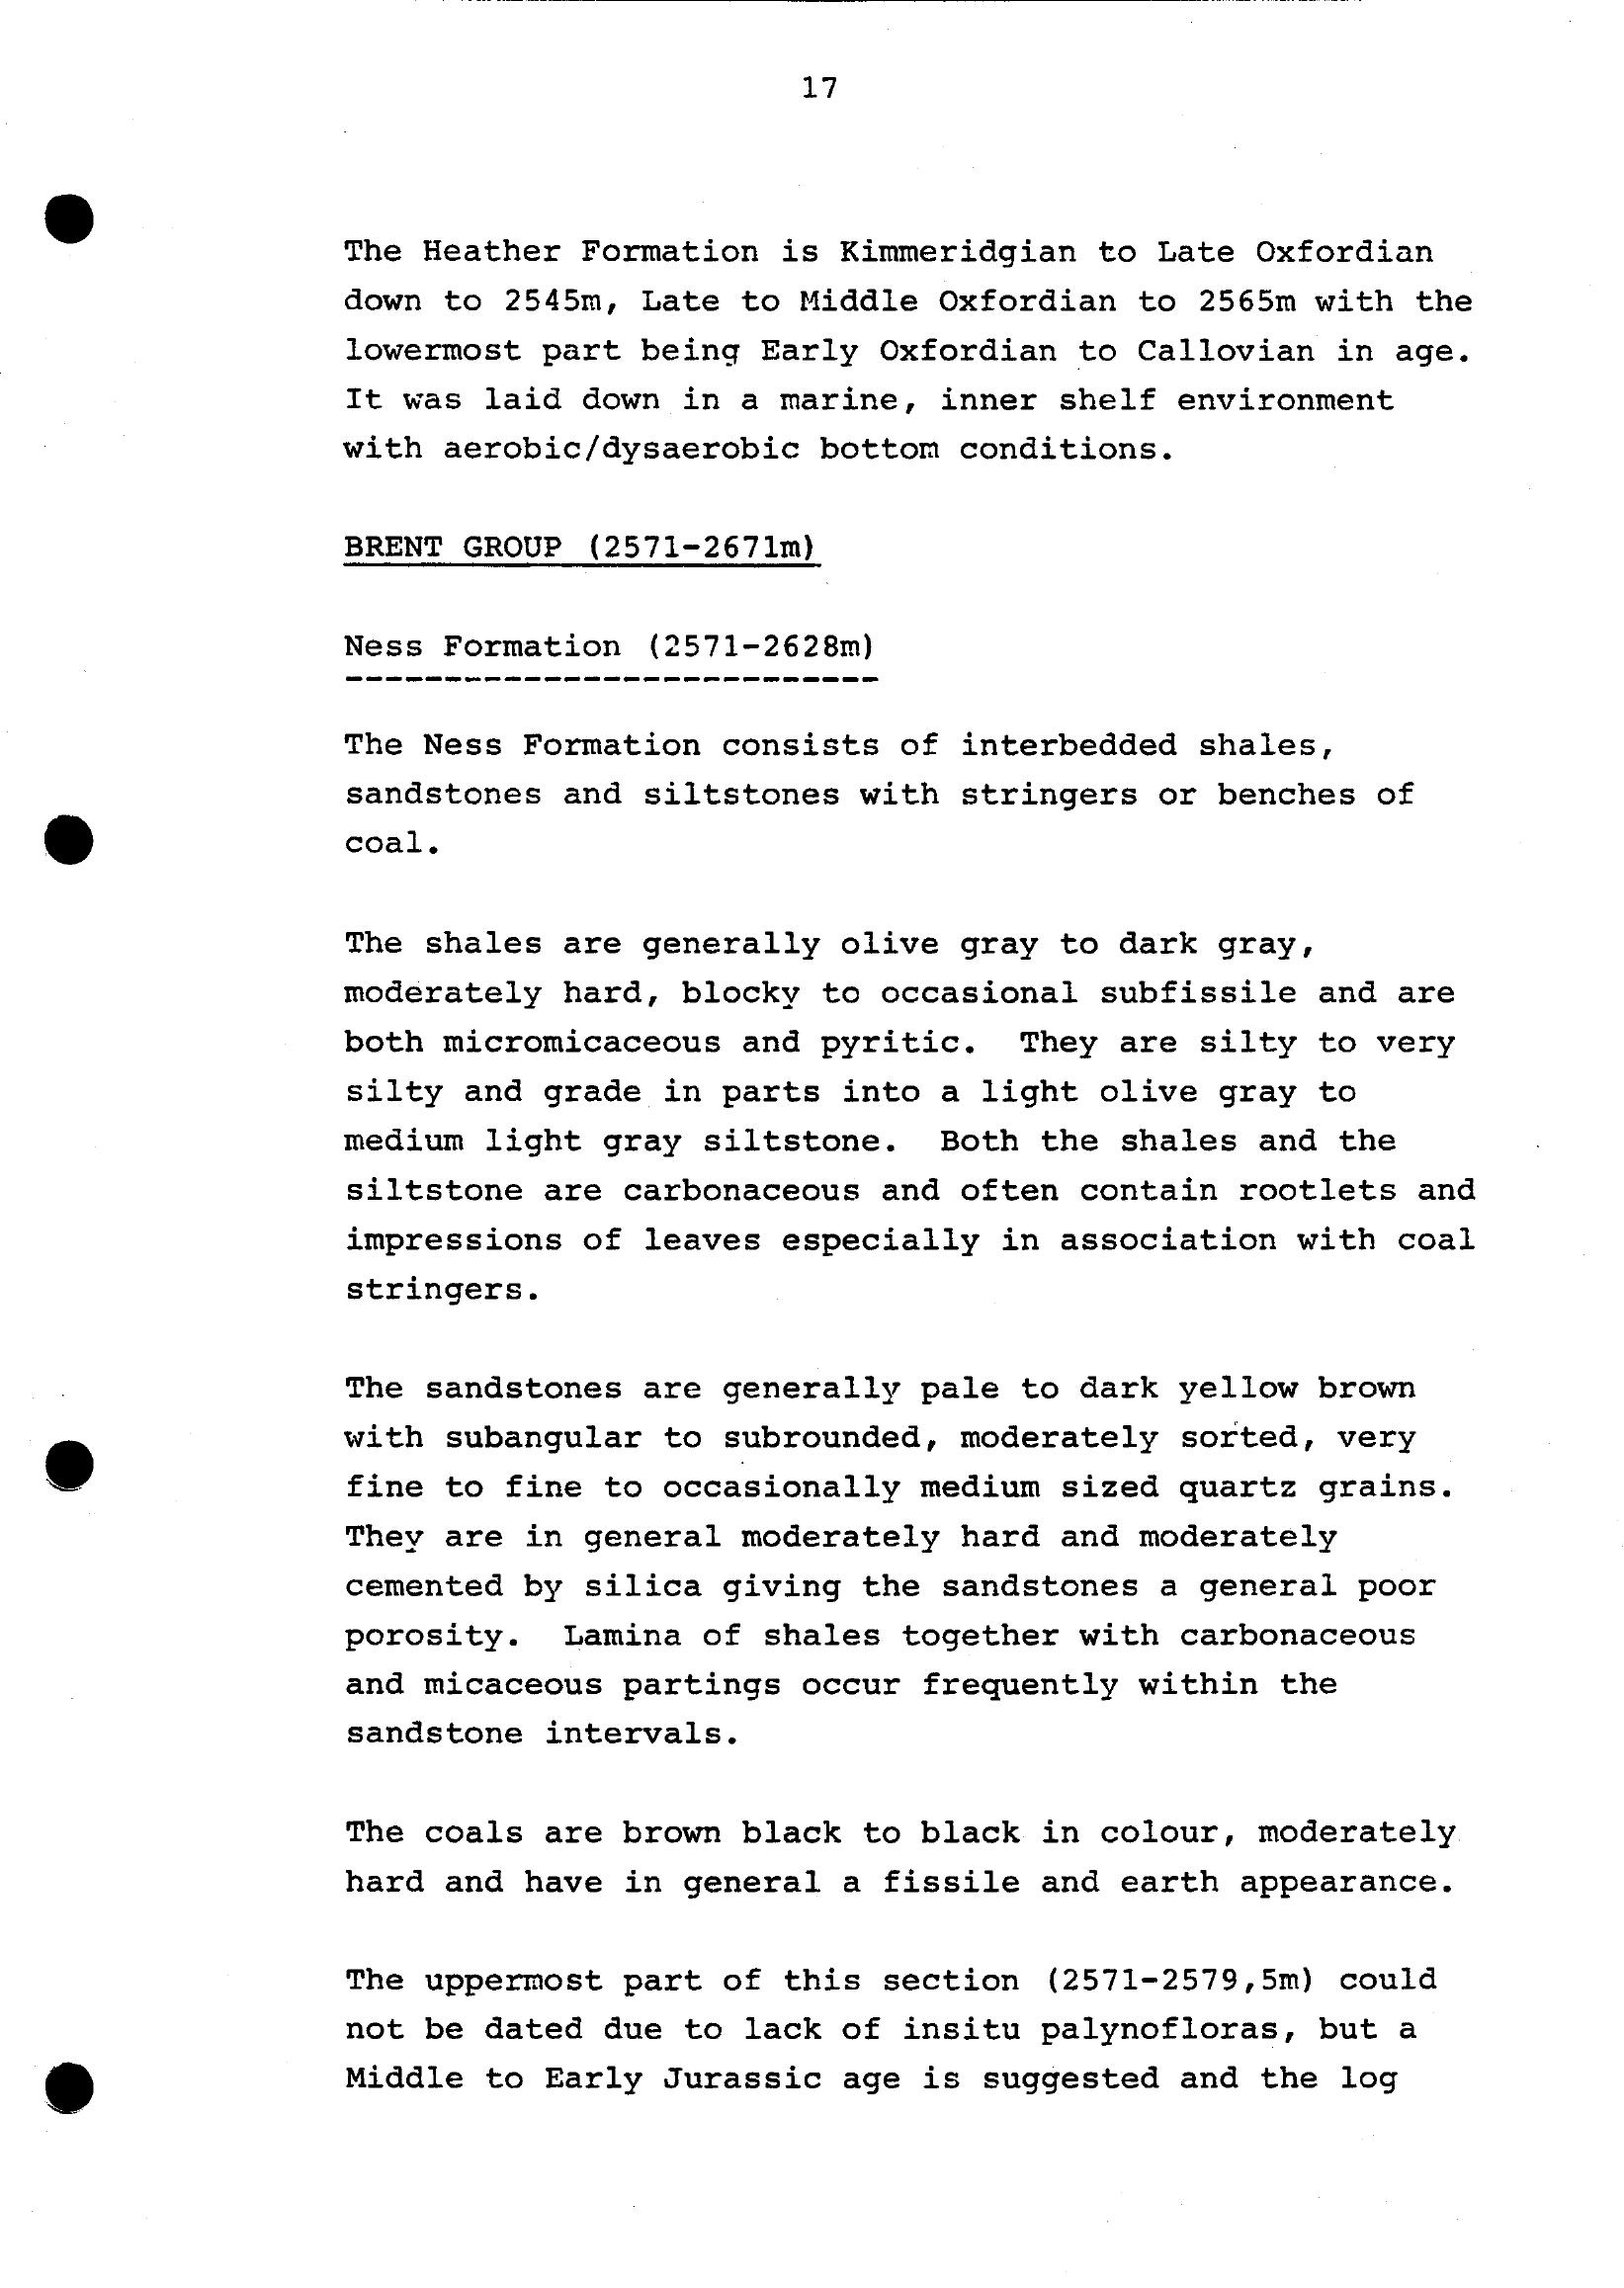text: (297, 209, 1506, 2130)
